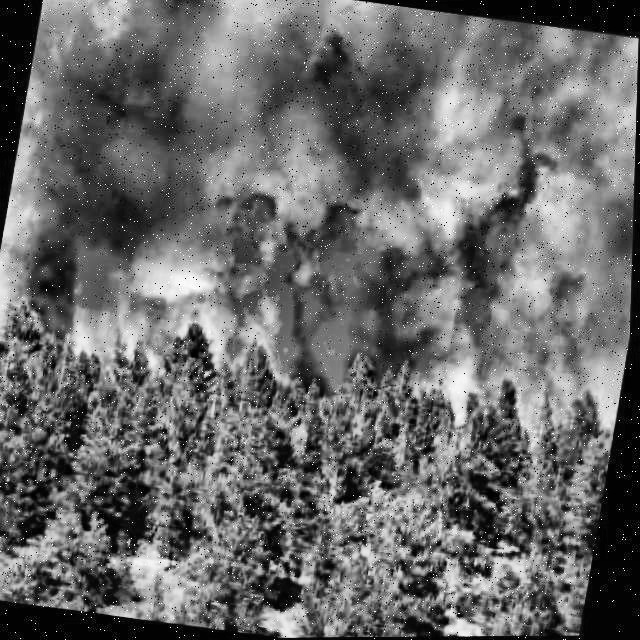Fire: (61, 214, 207, 366), (323, 231, 470, 381), (218, 199, 319, 382), (514, 272, 605, 416), (425, 272, 508, 414), (287, 247, 362, 397), (11, 205, 83, 321), (0, 226, 21, 302)
